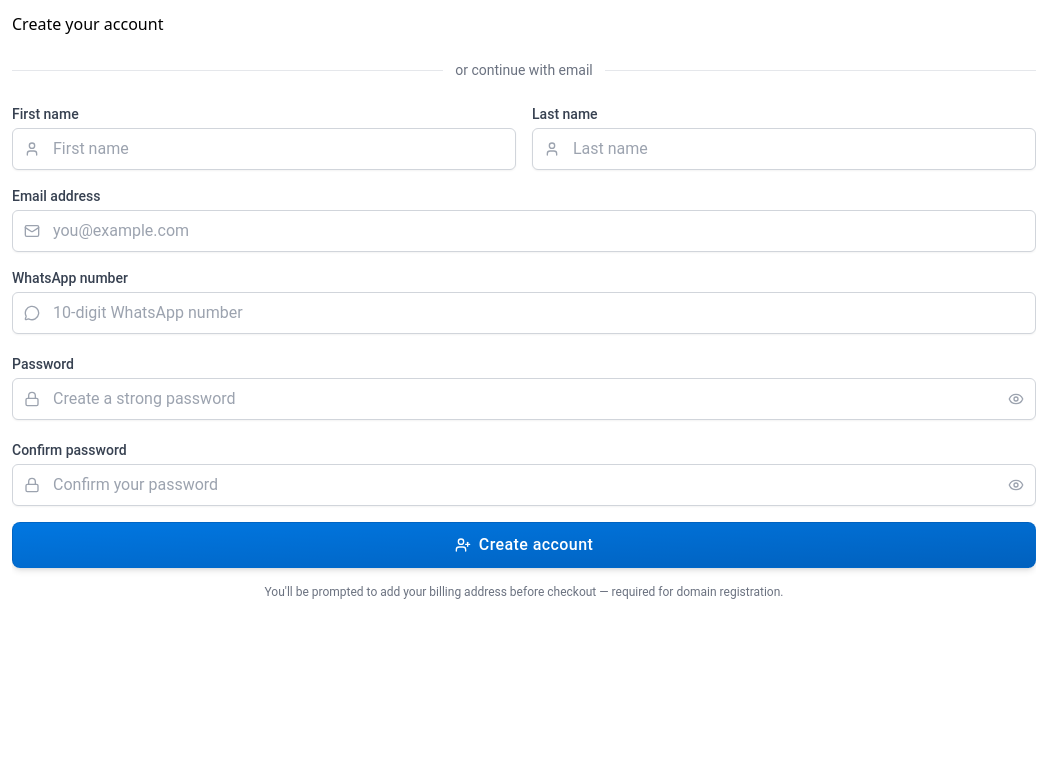
Scenario: <MultiStageRegisterForm> › clears the inline error for a field as soon as the user starts typing in it again
Submit the form, box [12,104,1036,568]
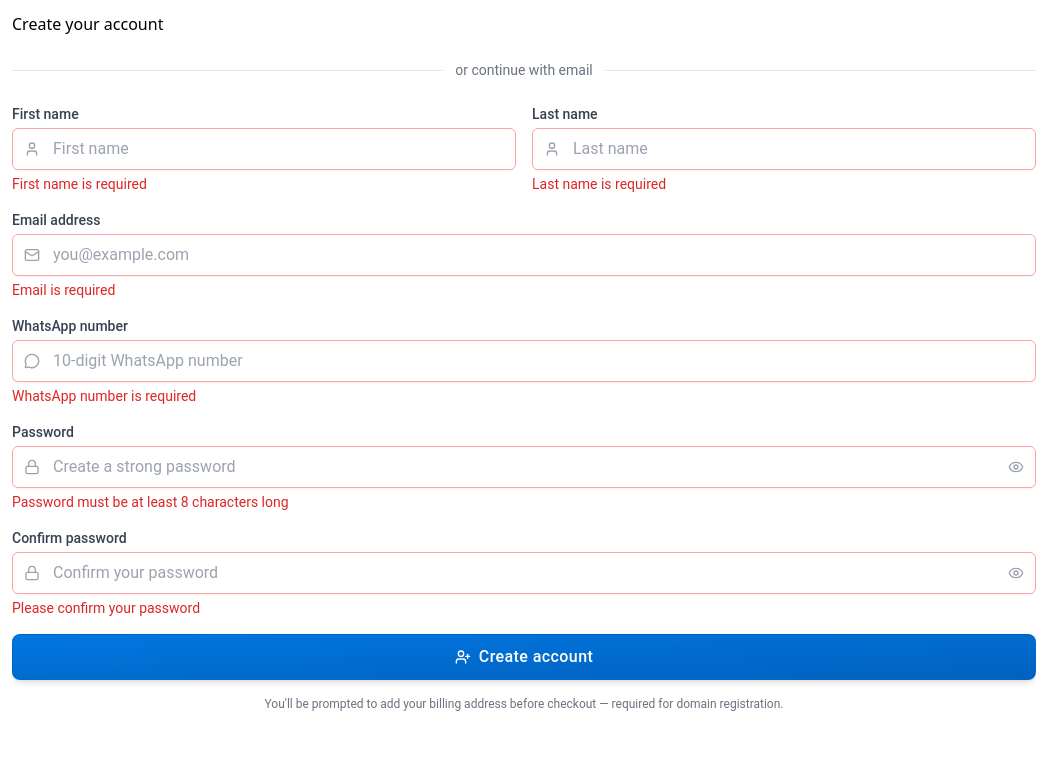
Result: the text "Please confirm your password" is shown at [12,600,200,616]
Type "x" into the password field with placeholder "Confirm your password" at point(524, 573), box [12,552,1036,594]
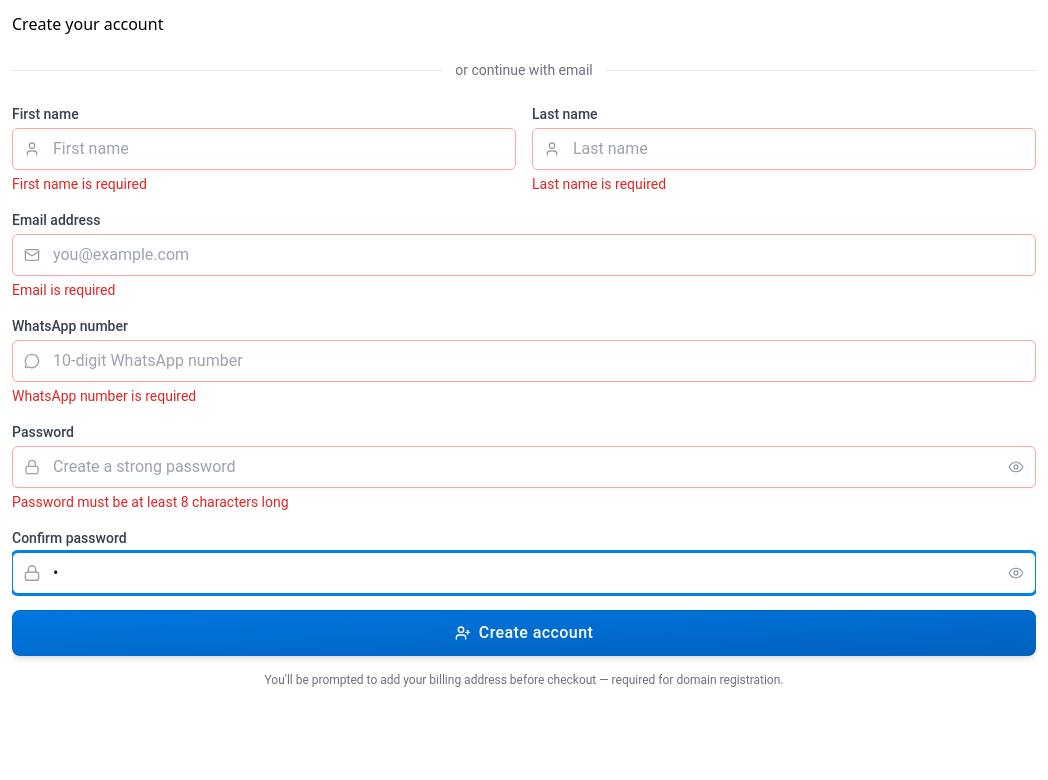
Result: the text "Please confirm your password" is gone
